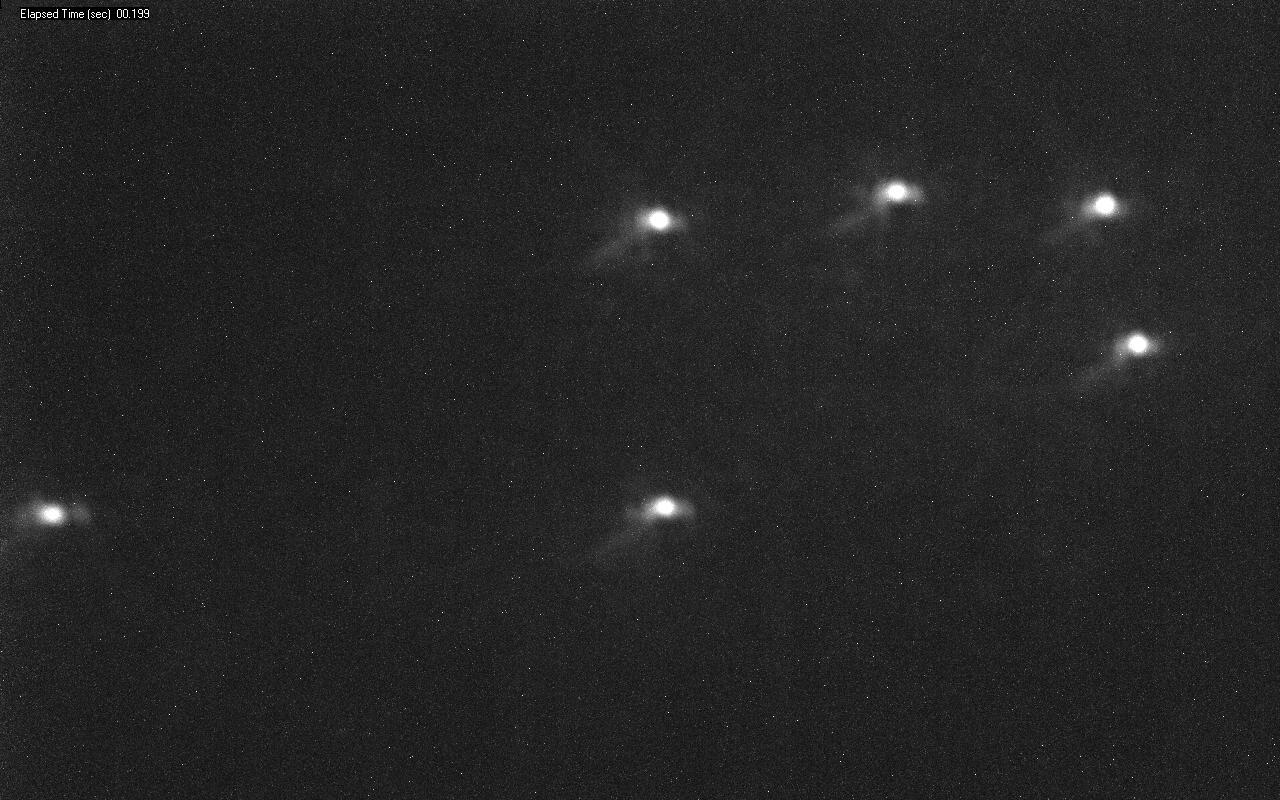Bead: (873, 180, 922, 209), (641, 494, 692, 520), (638, 206, 681, 232), (1083, 192, 1122, 220), (33, 502, 78, 526), (1117, 332, 1155, 359)
